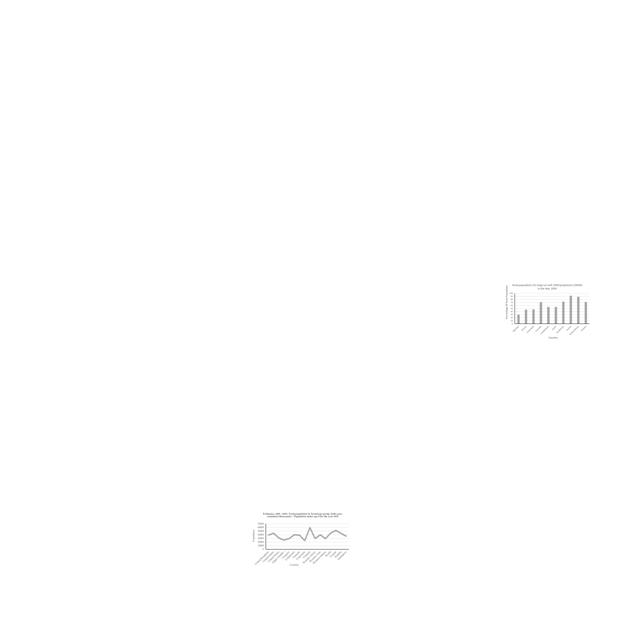Graph: (249, 511, 352, 567), (504, 282, 591, 340)
